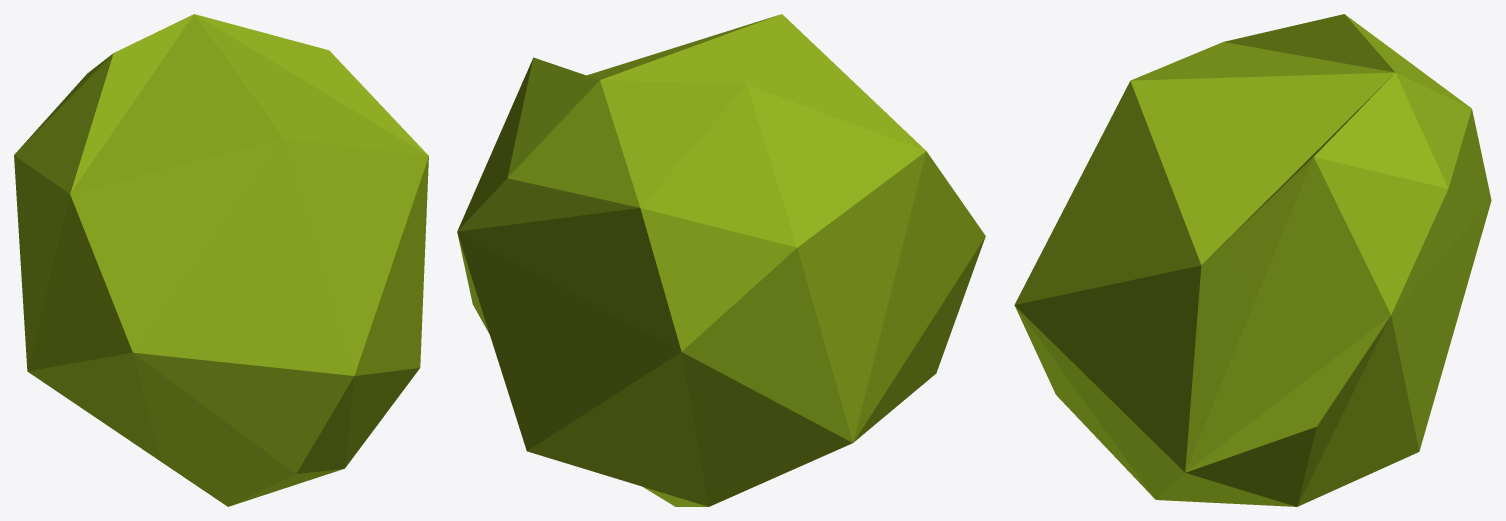
File: Vegetation_Modular_Tree_Foliage_Clump_Small_07.fbx
3 views of the same model, side by side, from view 1: azimuth 30°, elevation 25°; view 2: azimuth 150°, elevation 25°; view 3: azimuth 270°, elevation 25° (orthographic). The views are drawn at different scales.
Visible parts, largest first — view 1: Vegetation_Modular_Tree_Foliage_Clump_Small_07; view 2: Vegetation_Modular_Tree_Foliage_Clump_Small_07; view 3: Vegetation_Modular_Tree_Foliage_Clump_Small_07.
Boxes of the visible parts, x1,y1,x2,y2 form: Vegetation_Modular_Tree_Foliage_Clump_Small_07: (14,14,428,506); Vegetation_Modular_Tree_Foliage_Clump_Small_07: (457,14,985,506); Vegetation_Modular_Tree_Foliage_Clump_Small_07: (1014,14,1491,506).
Size of the model in its own units: 40.52 by 45.24 by 44.44.
